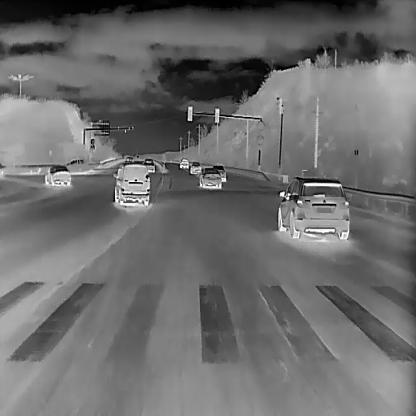car: (276, 175, 350, 242), (113, 162, 150, 206), (43, 163, 71, 187), (198, 167, 221, 190), (212, 164, 226, 182), (144, 158, 154, 172), (190, 161, 200, 174), (178, 157, 188, 169)
